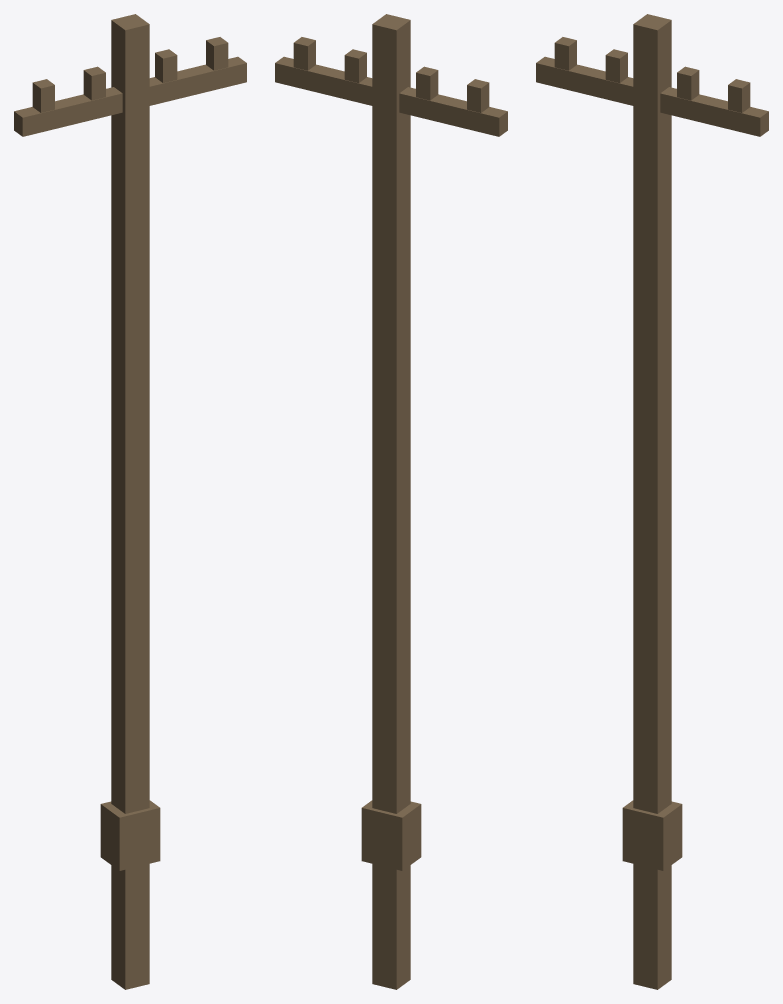
The model's file is Scenery_TelegraphPole.fbx.
3 renders of one model, left to right at view 1: azimuth 30°, elevation 25°; view 2: azimuth 150°, elevation 25°; view 3: azimuth 330°, elevation 25°, orthographic.
Parts seen in each view (by area): view 1: Scenery_TelegraphPole_LOD0; view 2: Scenery_TelegraphPole_LOD0; view 3: Scenery_TelegraphPole_LOD0.
Part boxes in pixels (x1,y1,x2,y2): Scenery_TelegraphPole_LOD0: (14, 14, 246, 989); Scenery_TelegraphPole_LOD0: (275, 14, 507, 989); Scenery_TelegraphPole_LOD0: (536, 14, 768, 989).
Size of what is drawn, in the model's own units: 2.2 by 9 by 0.32.
